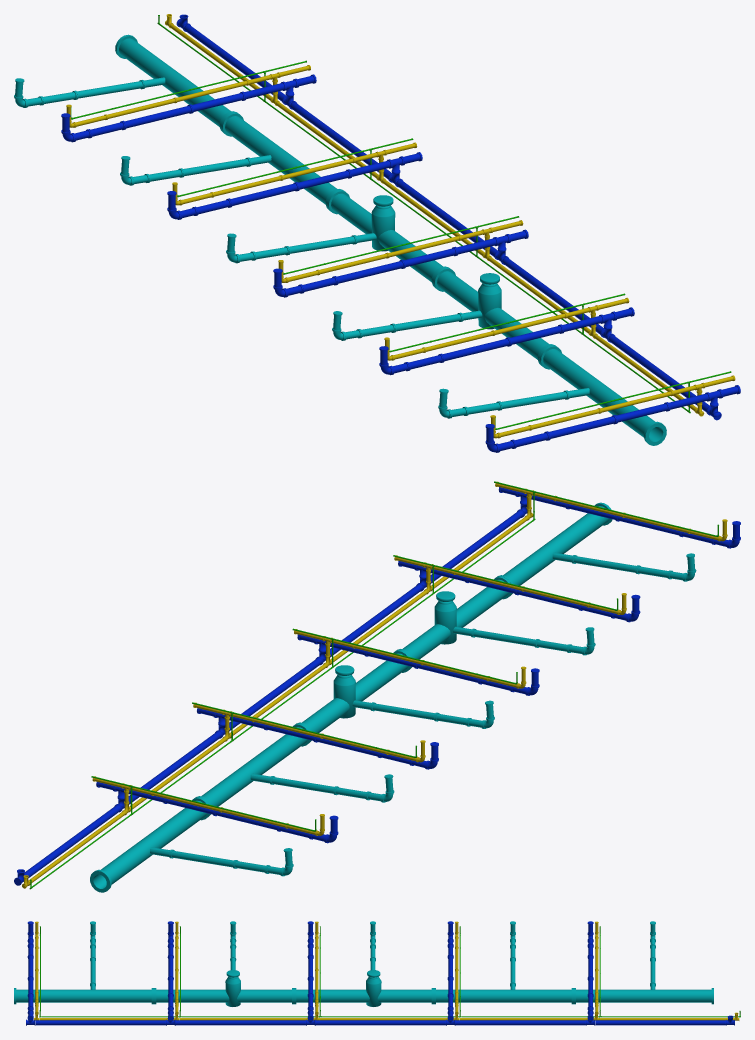
File: pipe 1.fbx
3 views of the same model, one above another, from view 1: azimuth 30°, elevation 25°; view 2: azimuth 150°, elevation 25°; view 3: azimuth 270°, elevation 25° (orthographic). The views are drawn at different scales.
Visible parts, largest first — view 1: PIPE SET 2.002, PIPE SET 2.003, PIPE SET 2.004, PIPE SET 2.001, PIPE SET 2, Cylinder, PIPES.005, PIPES, PIPES.001, PIPES.004, PIPES.002; view 2: PIPE SET 2.004, PIPE SET 2.002, PIPE SET 2.003, PIPE SET 2, PIPE SET 2.001, PIPES.005, Cylinder, PIPES.002, PIPES.001, PIPES.004, PIPES; view 3: PIPE SET 2.004, PIPE SET 2.003, PIPE SET 2.002, PIPE SET 2.001, PIPE SET 2, PIPES.005, PIPES, PIPES.001, PIPES.002, PIPES.004, Cylinder.
Boxes of the visible parts, left/top/right/bottom form: PIPE SET 2.002: left=438, top=345, right=740, bottom=452; PIPE SET 2.003: left=120, top=112, right=422, bottom=219; PIPE SET 2.004: left=14, top=34, right=316, bottom=142; PIPE SET 2.001: left=226, top=190, right=528, bottom=297; PIPE SET 2: left=332, top=267, right=634, bottom=375; Cylinder: left=371, top=195, right=501, bottom=329; PIPES.005: left=157, top=14, right=286, bottom=102; PIPES: left=475, top=248, right=604, bottom=336; PIPES.001: left=369, top=170, right=498, bottom=258; PIPES.004: left=263, top=93, right=392, bottom=180; PIPES.002: left=582, top=326, right=710, bottom=413; PIPE SET 2.004: left=90, top=776, right=338, bottom=892; PIPE SET 2.002: left=494, top=481, right=740, bottom=595; PIPE SET 2.003: left=192, top=702, right=438, bottom=816; PIPE SET 2: left=393, top=555, right=640, bottom=669; PIPE SET 2.001: left=292, top=628, right=539, bottom=742; PIPES.005: left=14, top=804, right=131, bottom=889; Cylinder: left=333, top=591, right=456, bottom=718; PIPES.002: left=418, top=509, right=533, bottom=593; PIPES.001: left=218, top=657, right=332, bottom=741; PIPES.004: left=117, top=730, right=231, bottom=814; PIPES: left=318, top=583, right=433, bottom=667; PIPE SET 2.004: left=574, top=921, right=713, bottom=1021; PIPE SET 2.003: left=434, top=921, right=573, bottom=1021; PIPE SET 2.002: left=14, top=921, right=153, bottom=1021; PIPE SET 2.001: left=294, top=921, right=433, bottom=1021; PIPE SET 2: left=154, top=921, right=293, bottom=1021; PIPES.005: left=595, top=1011, right=740, bottom=1025; PIPES: left=175, top=1011, right=321, bottom=1025; PIPES.001: left=315, top=1011, right=460, bottom=1025; PIPES.002: left=35, top=1011, right=180, bottom=1025; PIPES.004: left=455, top=1011, right=600, bottom=1025; Cylinder: left=225, top=970, right=381, bottom=1006.
Size of the model in its own units: 274 by 55.61 by 1034.
